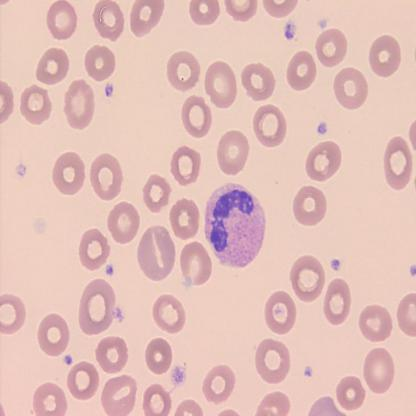Band Neutrophil: (203, 180, 267, 271)
